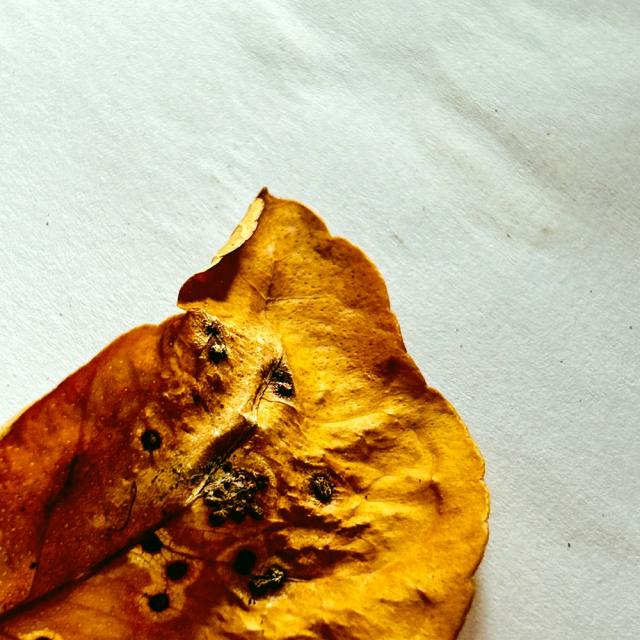DryLeaf_Lemon: (0, 189, 489, 639)
